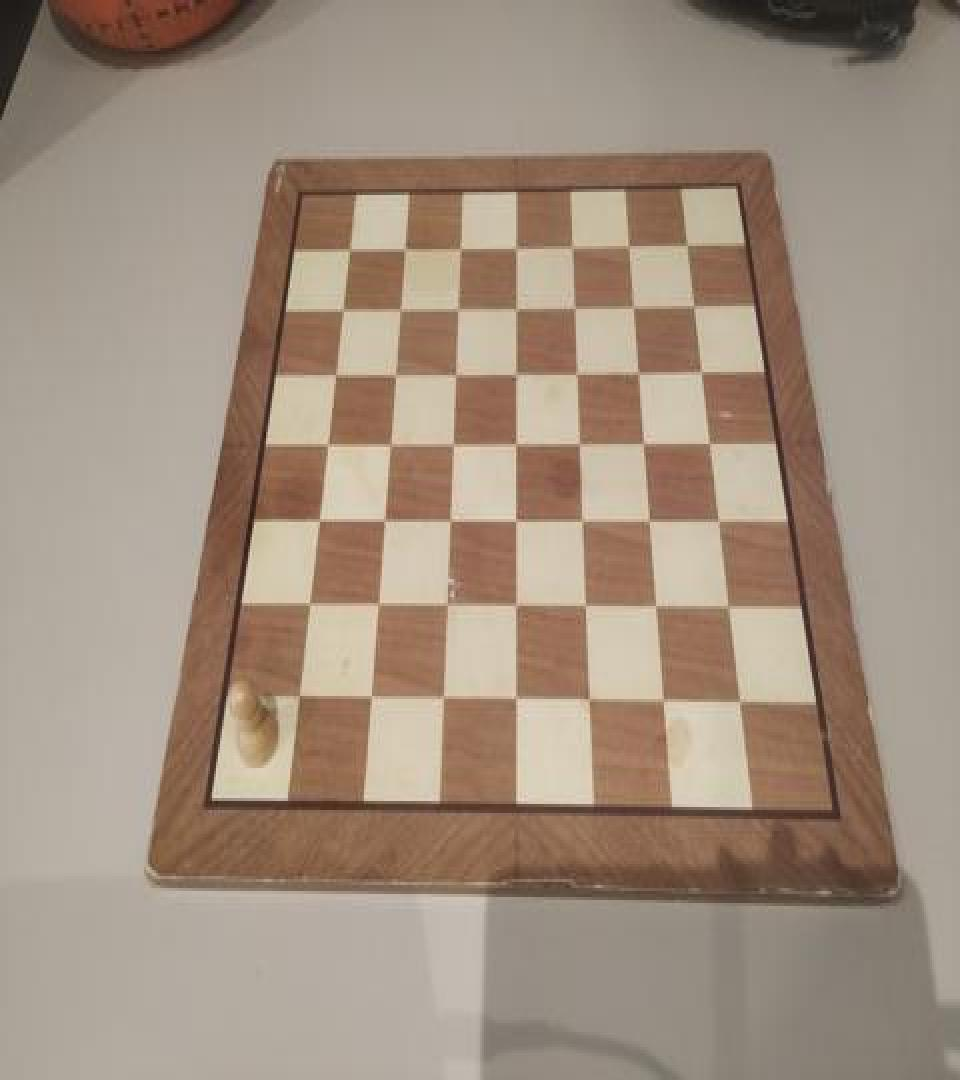xcorner: (359, 690, 379, 720), (433, 690, 453, 720), (507, 690, 527, 720), (582, 690, 602, 720), (658, 690, 678, 720), (733, 690, 753, 720), (296, 594, 316, 624), (366, 594, 386, 624), (436, 594, 456, 624), (507, 594, 527, 624), (578, 594, 598, 624), (650, 594, 670, 624), (722, 594, 742, 624), (305, 508, 325, 538), (372, 508, 392, 538), (439, 507, 459, 537), (507, 507, 527, 537), (575, 507, 595, 537), (643, 507, 663, 537), (712, 506, 732, 536), (314, 429, 334, 459), (378, 429, 398, 459), (442, 429, 462, 459), (507, 428, 527, 458), (572, 428, 592, 458), (637, 428, 657, 458), (703, 426, 723, 456), (322, 357, 342, 387), (383, 357, 403, 387), (445, 356, 465, 386), (506, 356, 526, 386), (569, 356, 589, 386), (631, 354, 651, 384), (694, 354, 714, 384), (329, 291, 349, 321), (388, 291, 408, 321), (447, 290, 467, 320), (506, 290, 526, 320), (566, 288, 586, 318), (626, 286, 646, 316), (686, 286, 706, 316), (336, 231, 356, 261), (392, 230, 412, 260), (449, 228, 469, 258), (506, 228, 526, 258), (564, 226, 584, 256), (621, 225, 641, 255), (679, 225, 699, 255), (285, 689, 305, 718)
